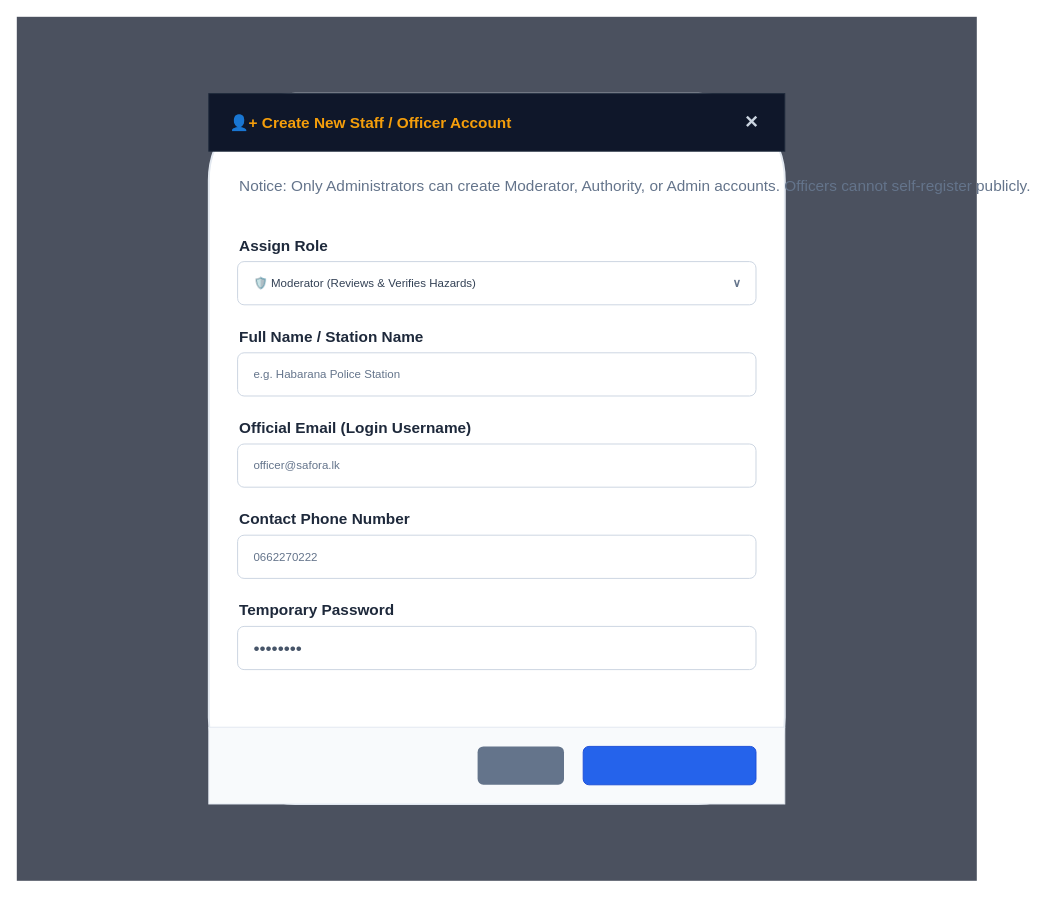
The diagram is 1046 pixels wide and 897 high, and some of its shapes have lost their labels. The shapes that lost their labels are listed below. From the top down, each one's box as (x1, y1, x2, y2) in pixels, then its label:
(477, 746, 564, 784): Cancel
(582, 745, 756, 785): ✓ Create Account
